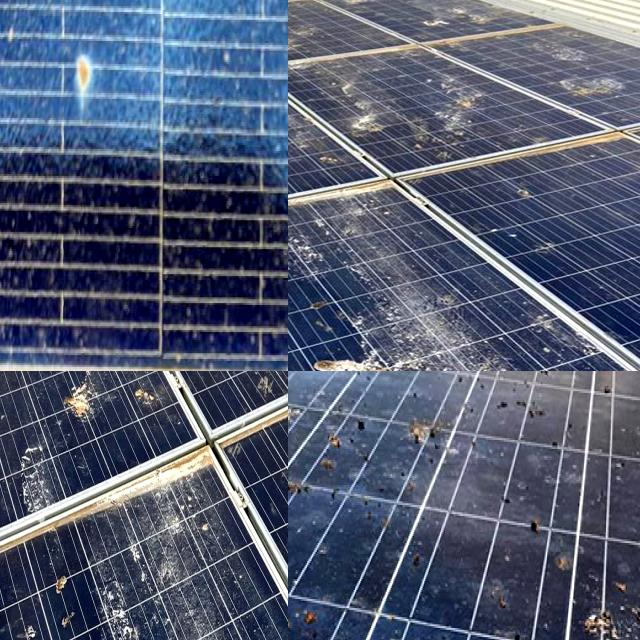bird: (288, 201, 412, 289), (330, 65, 397, 152), (164, 486, 214, 594), (88, 566, 149, 640), (37, 552, 82, 640), (438, 73, 495, 141), (44, 371, 103, 435), (306, 340, 414, 371), (16, 433, 54, 516), (288, 73, 333, 140), (571, 598, 640, 640), (220, 371, 288, 413), (486, 394, 562, 430), (402, 407, 449, 465), (120, 371, 173, 421), (0, 371, 42, 432), (0, 379, 18, 518), (161, 371, 200, 430), (566, 78, 632, 112), (550, 532, 588, 586), (5, 371, 54, 409), (288, 504, 317, 563), (288, 453, 315, 508), (288, 580, 311, 640), (299, 589, 326, 640), (431, 371, 487, 394), (288, 140, 318, 177), (520, 503, 547, 543), (332, 371, 388, 389), (288, 339, 313, 371), (254, 371, 288, 394), (288, 340, 313, 371), (544, 371, 592, 386), (288, 395, 308, 429), (298, 371, 328, 391), (288, 371, 310, 397), (320, 448, 338, 477), (299, 371, 320, 392), (534, 371, 579, 380), (288, 371, 305, 380)
shadow: (62, 60, 111, 114)
